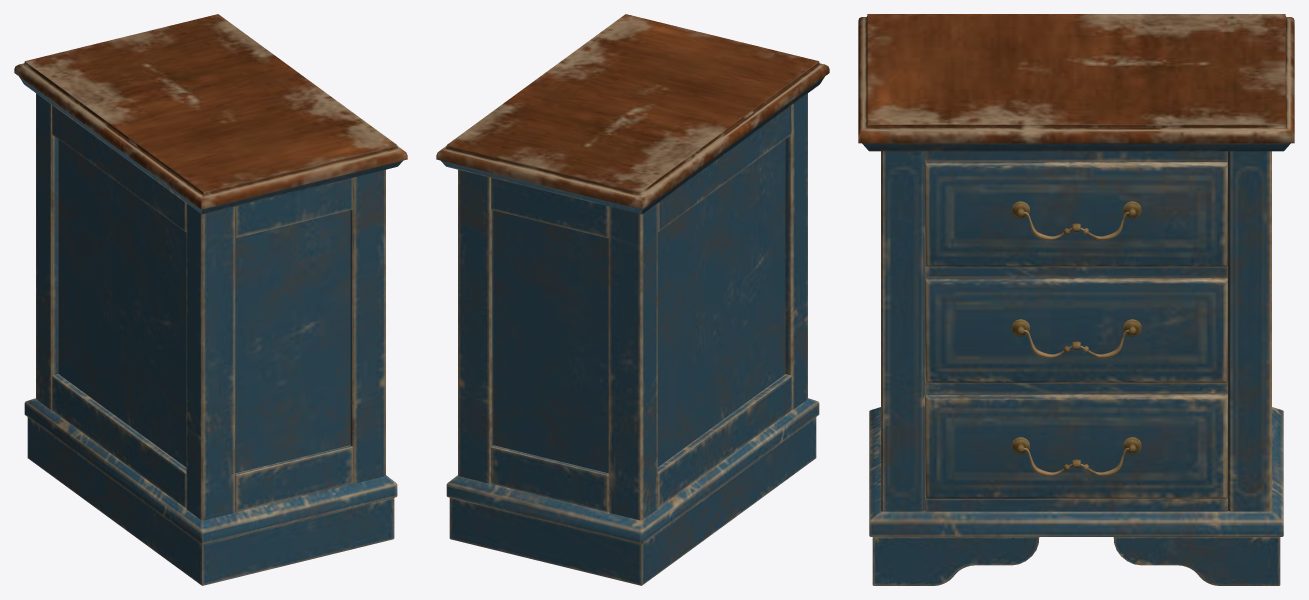
Rendered from antique_dresser.glb.
3 views of the same model, side by side, from view 1: azimuth 30°, elevation 25°; view 2: azimuth 150°, elevation 25°; view 3: azimuth 270°, elevation 25° (orthographic). The views are drawn at different scales.
Visible parts, largest first — view 1: Base_low, Top_low, WoodPie_low, Bottom02_low, Bottom01_low; view 2: Base_low, Top_low, WoodPie_low, Bottom02_low, Bottom01_low; view 3: Draw_low, Top_low, Base_low, WoodPie_low, Bottom01_low, Bottom02_low, Handle_low, HandlePie_low.
Part boxes in pixels (left/top/right/bottom): Base_low: left=36, top=93, right=385, bottom=520; Top_low: left=14, top=14, right=407, bottom=214; WoodPie_low: left=52, top=105, right=352, bottom=512; Bottom02_low: left=27, top=417, right=394, bottom=585; Bottom01_low: left=24, top=398, right=397, bottom=544; Base_low: left=458, top=93, right=807, bottom=520; Top_low: left=436, top=14, right=829, bottom=214; WoodPie_low: left=491, top=105, right=791, bottom=512; Bottom02_low: left=449, top=417, right=816, bottom=585; Bottom01_low: left=446, top=398, right=819, bottom=544; Draw_low: left=925, top=162, right=1227, bottom=498; Top_low: left=858, top=14, right=1294, bottom=151; Base_low: left=881, top=151, right=1271, bottom=511; WoodPie_low: left=925, top=151, right=1227, bottom=511; Bottom01_low: left=869, top=407, right=1283, bottom=536; Bottom02_low: left=872, top=537, right=1280, bottom=585; Handle_low: left=1023, top=211, right=1129, bottom=476; HandlePie_low: left=1011, top=201, right=1141, bottom=454.
Bounding box in the file's own units: 0.7348 × 1.33 × 1.14.
1 material, 1 textured.
